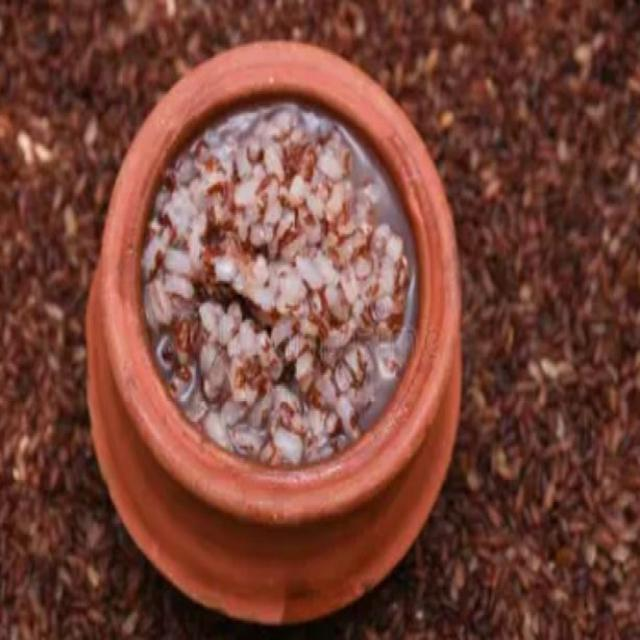PORRIDGE: (137, 103, 417, 470)
